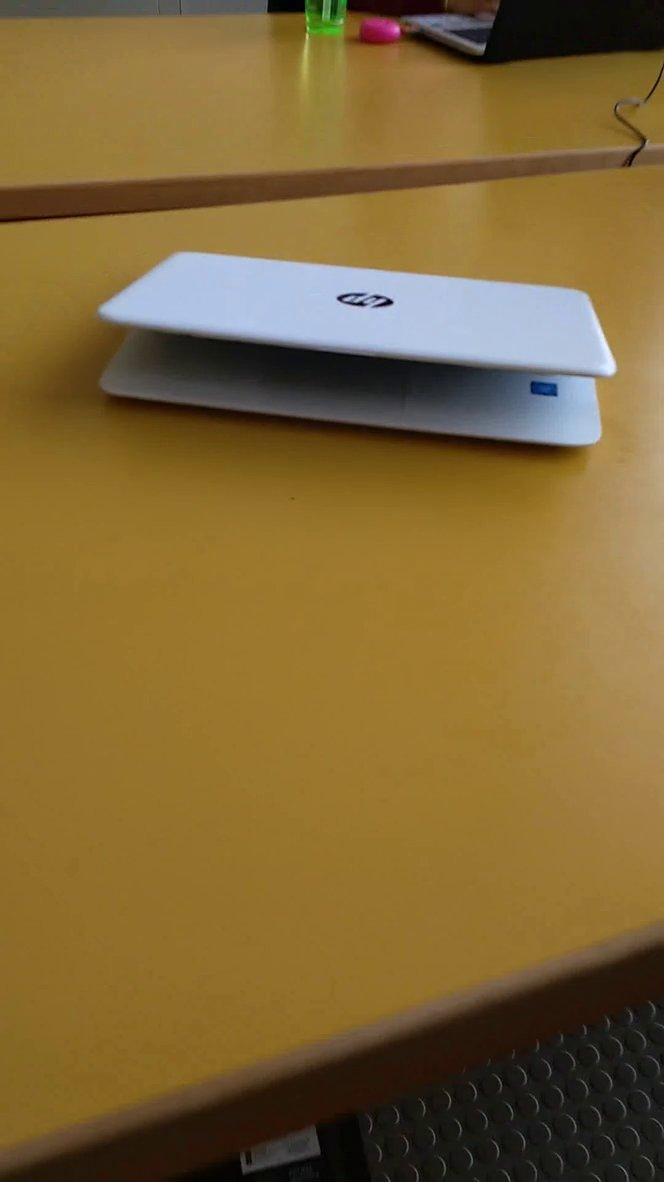laptop: (69, 236, 637, 484)
